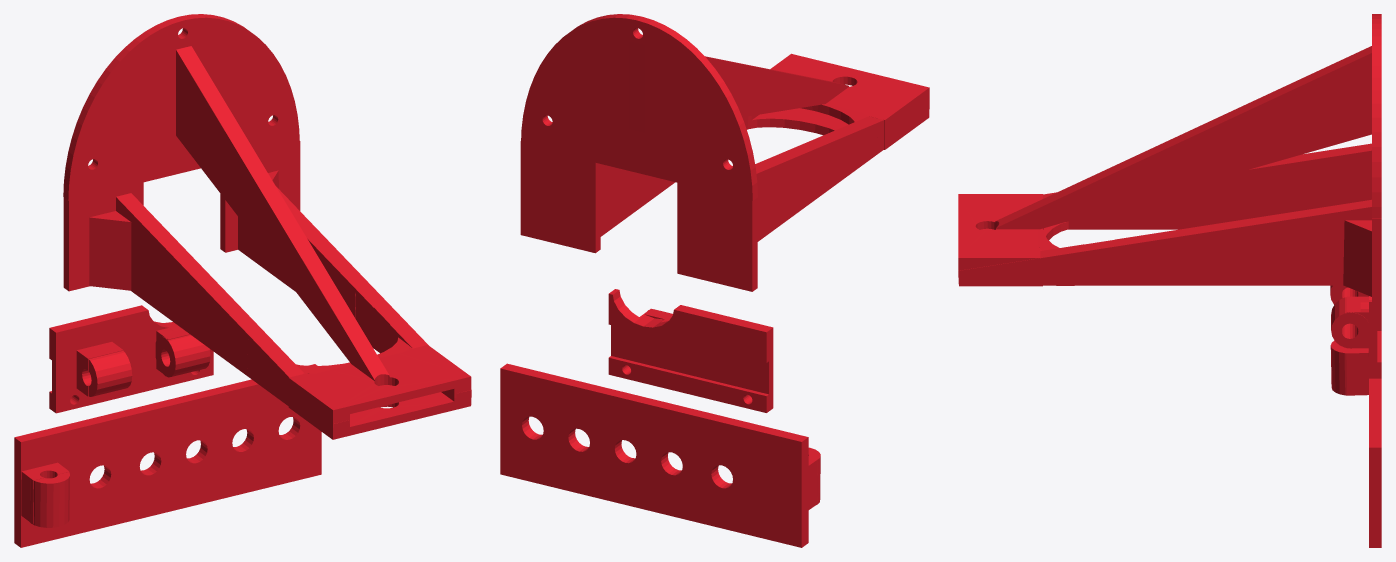
File: tinker.obj
The picture shows the model from 3 angles, left to right: view 1: azimuth 30°, elevation 25°; view 2: azimuth 150°, elevation 25°; view 3: azimuth 270°, elevation 25°; orthographic projection. The views are drawn at different scales.
Parts seen in each view (by area): view 1: obj_0; view 2: obj_0; view 3: obj_0.
Part boxes in pixels (bbox=[...]): obj_0: bbox=[14, 14, 471, 547]; obj_0: bbox=[500, 14, 929, 547]; obj_0: bbox=[958, 14, 1381, 547].
Bounding box in the file's own units: 78 × 121 × 100.
